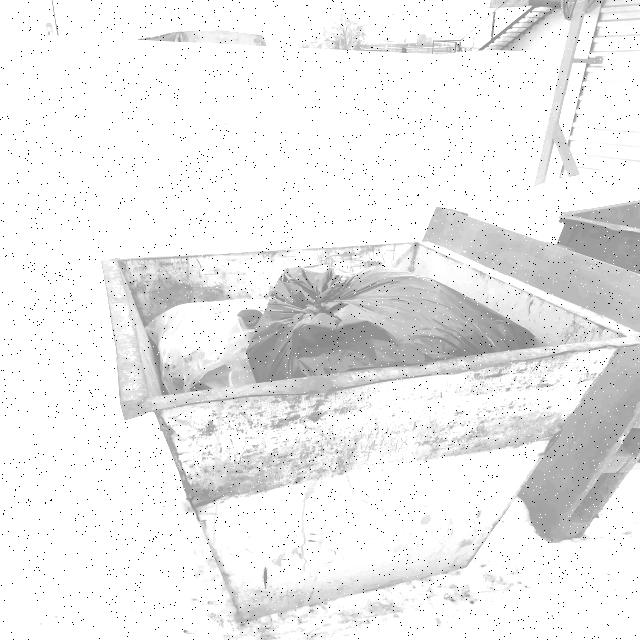Trashcan: (72, 192, 640, 614)
